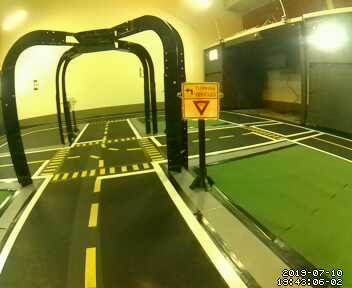Turn Yield: (180, 82, 221, 121)
